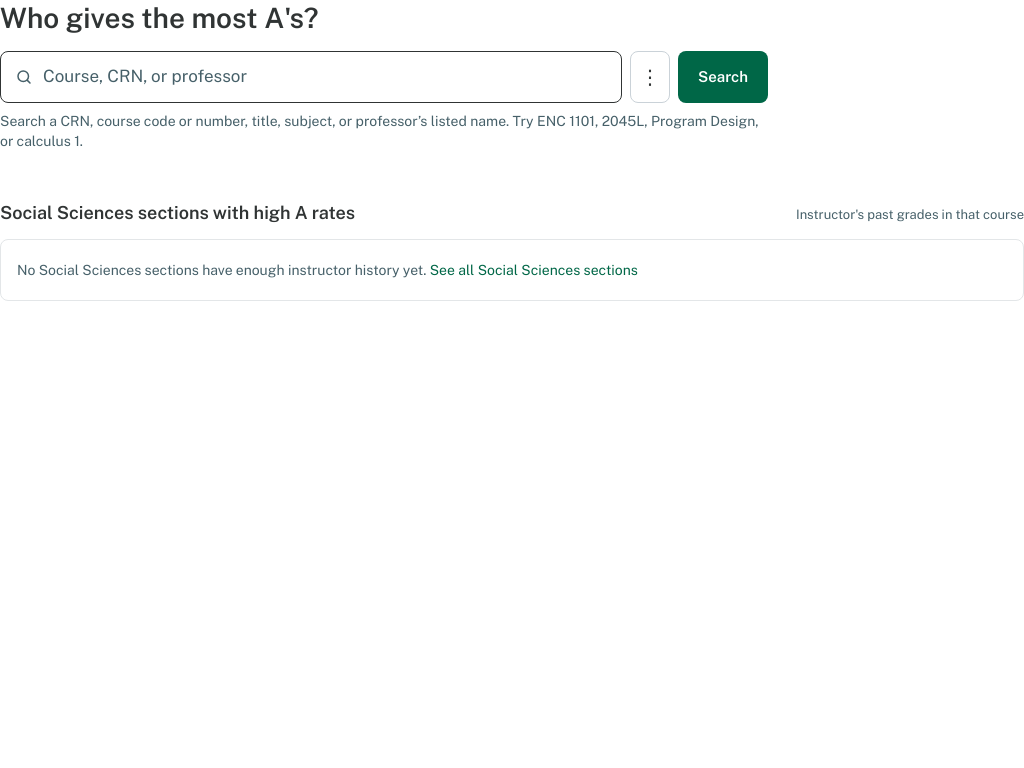
GenEd filter popover › hides options initially and applies or clears a selection without submitting search
This screenshot has width=1024, height=768.
Expected: the button "Mathematics" is not shown
Click the button named "GenEd filters".
click(650, 77)  # box [630,51,670,103]
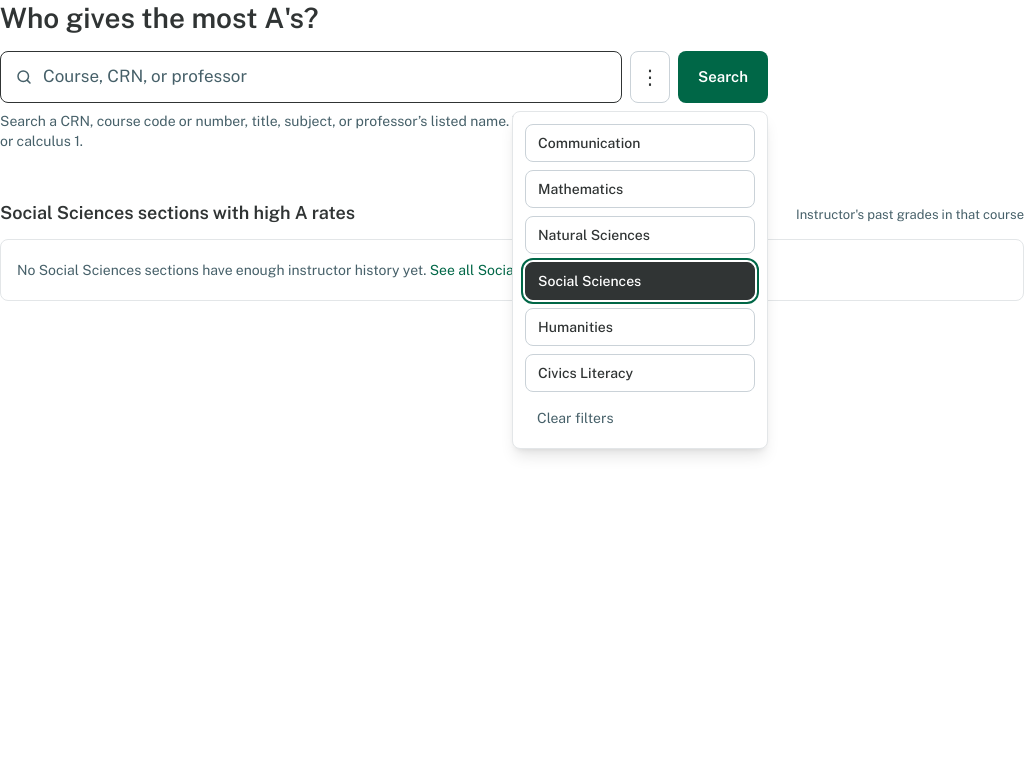
Click the button "Mathematics".
click(640, 189)  # box [525,170,755,208]
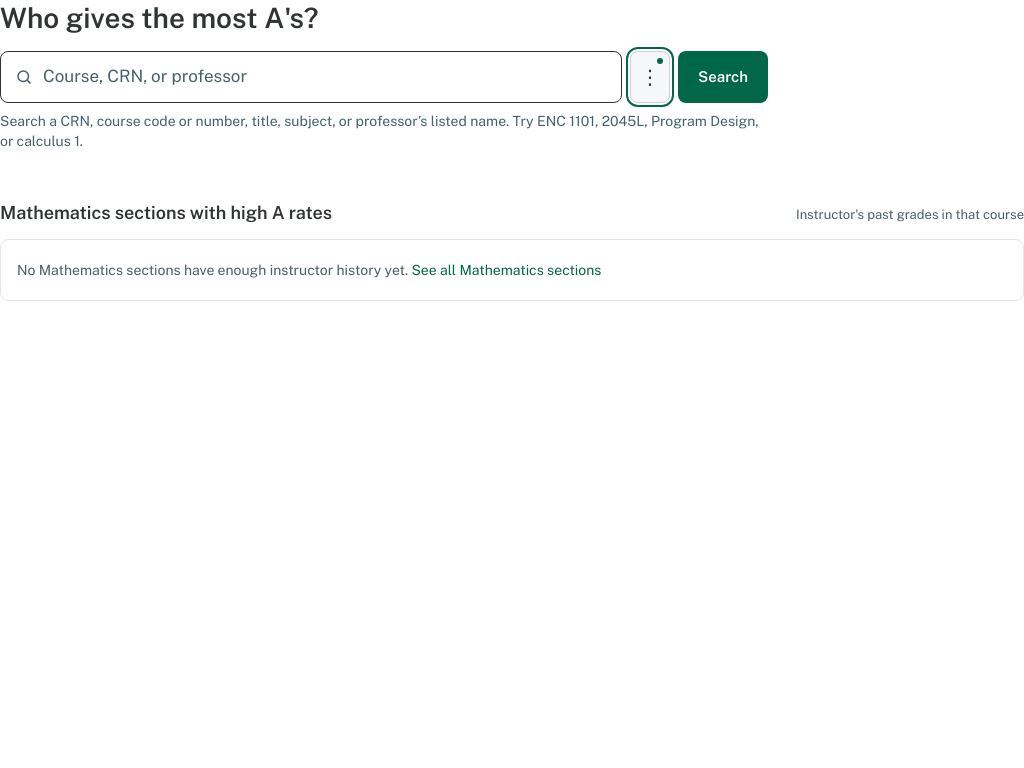
Now the heading "Mathematics sections with high A rates" is shown, box [0,199,332,227]
Now the dialog is gone
Click the button named "GenEd filters".
click(650, 77)  # box [630,51,670,103]
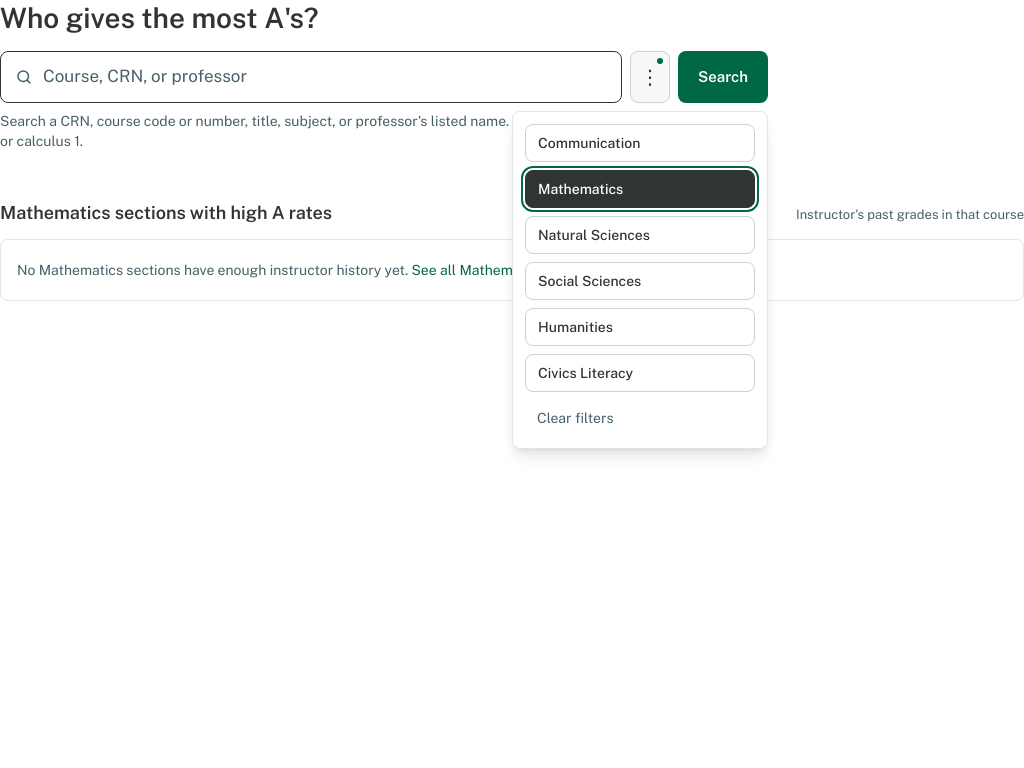
Now the button "Mathematics" is pressed, box [525,170,755,208]
Click the button "Clear filters".
click(640, 418)  # box [525,400,755,436]
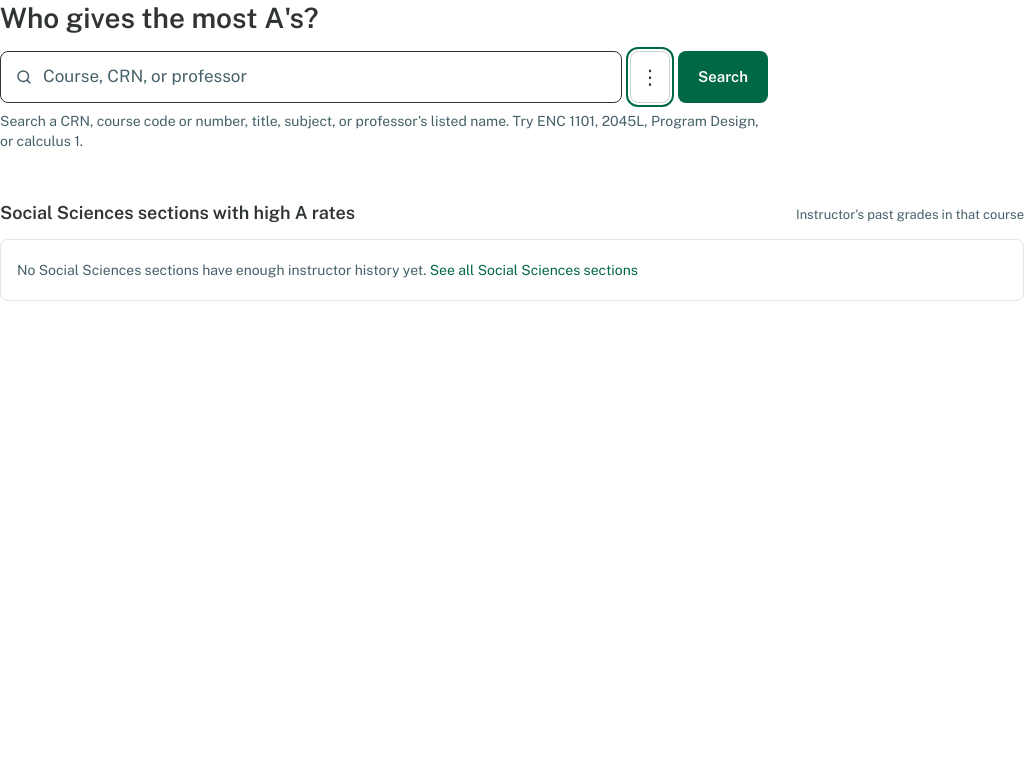
Now the heading "Social Sciences sections with high A rates" is shown, box [0,199,355,227]
